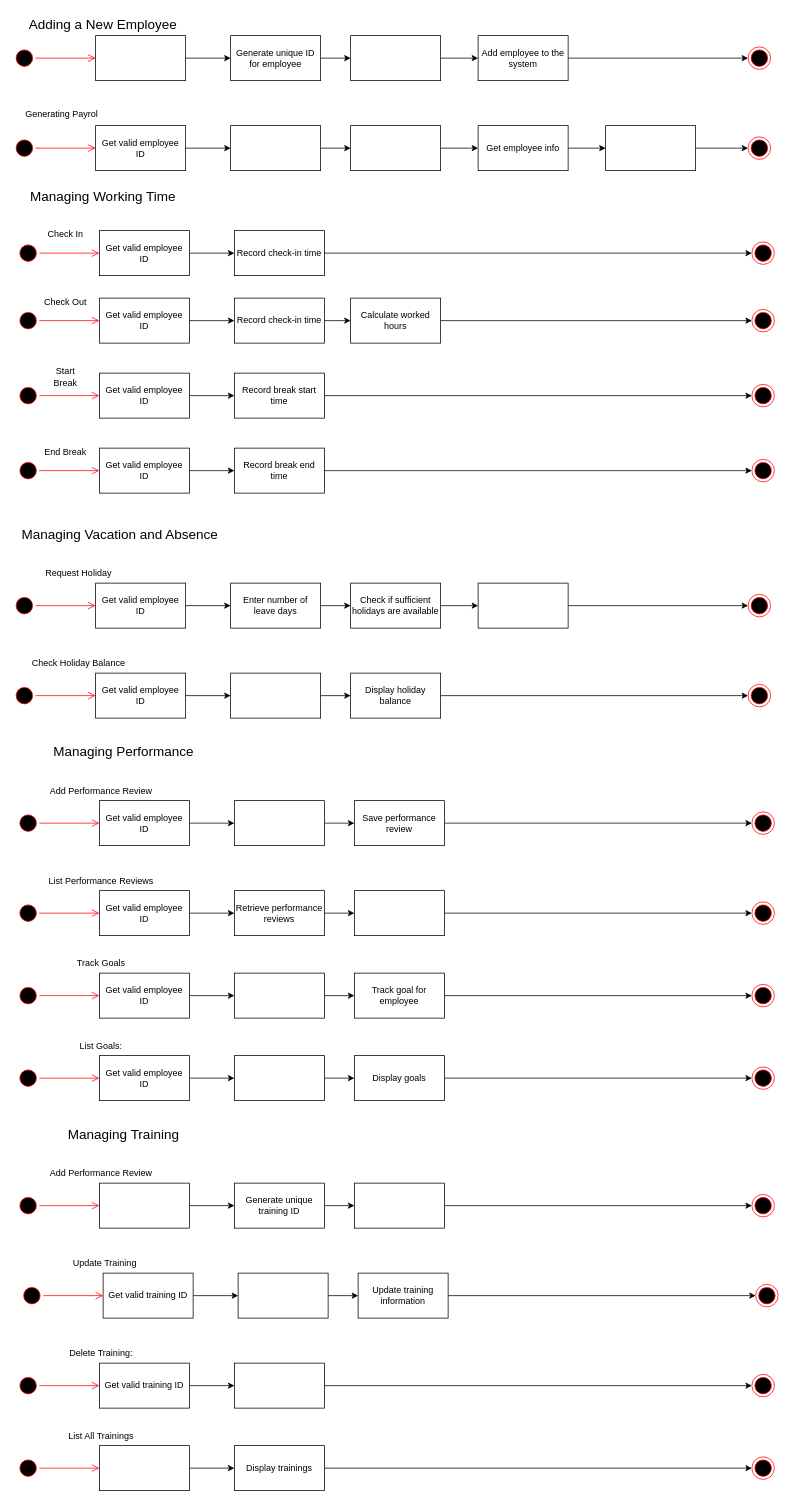
Image size: 791x1504. Some labels were removed from this diagram. The shapes that lost their labels are listed below. From the top down, each one's centre as x and y in pixels, then its label:
At [140,58]: "Enter employee details (name, surname, age, hourly rate, phone)".
At [395,58]: "Set start date".
At [275,148]: "Check if employee is checked out".
At [395,148]: "Check if employee is on break".
At [650,148]: "Generate payroll".
At [522,605]: "Update holiday balance".
At [275,695]: "Retrieve current holiday balance".
At [279,823]: "Enter performance review details (review, score, review date)".
At [399,913]: "Display performance reviews".
At [279,995]: "Enter goal details (goal, start date, end date)".
At [279,1078]: "Retrieve goals".
At [144,1205]: "Enter training details (name, start date, end date)".
At [399,1205]: "Add training to the system".
At [282,1295]: "Enter new training details (name, start date, end date)".
At [279,1385]: "Delete training from the system".
At [144,1468]: "Retrieve all trainings".
